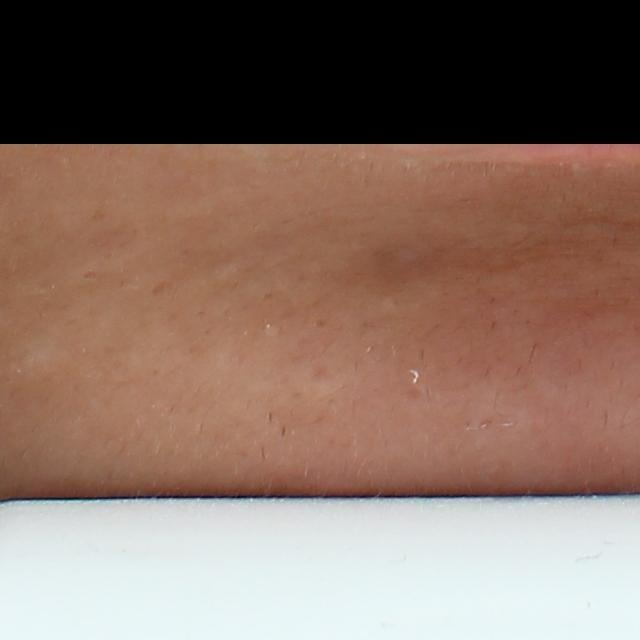hypertrophic_scar: (9, 340, 80, 394)
